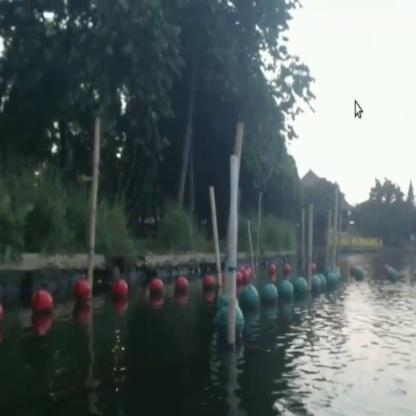green_buoy: (218, 304, 240, 344), (240, 286, 260, 316), (264, 283, 278, 311), (294, 281, 309, 305), (280, 281, 293, 304), (314, 275, 326, 294), (328, 270, 336, 288), (356, 267, 364, 280), (388, 269, 395, 280)
red_buoy: (32, 290, 52, 318), (150, 278, 165, 303), (113, 278, 127, 304), (174, 275, 187, 296), (203, 272, 214, 293), (76, 283, 86, 306), (284, 264, 293, 280), (270, 263, 278, 278), (244, 268, 251, 284), (236, 268, 242, 286), (350, 261, 354, 278)
